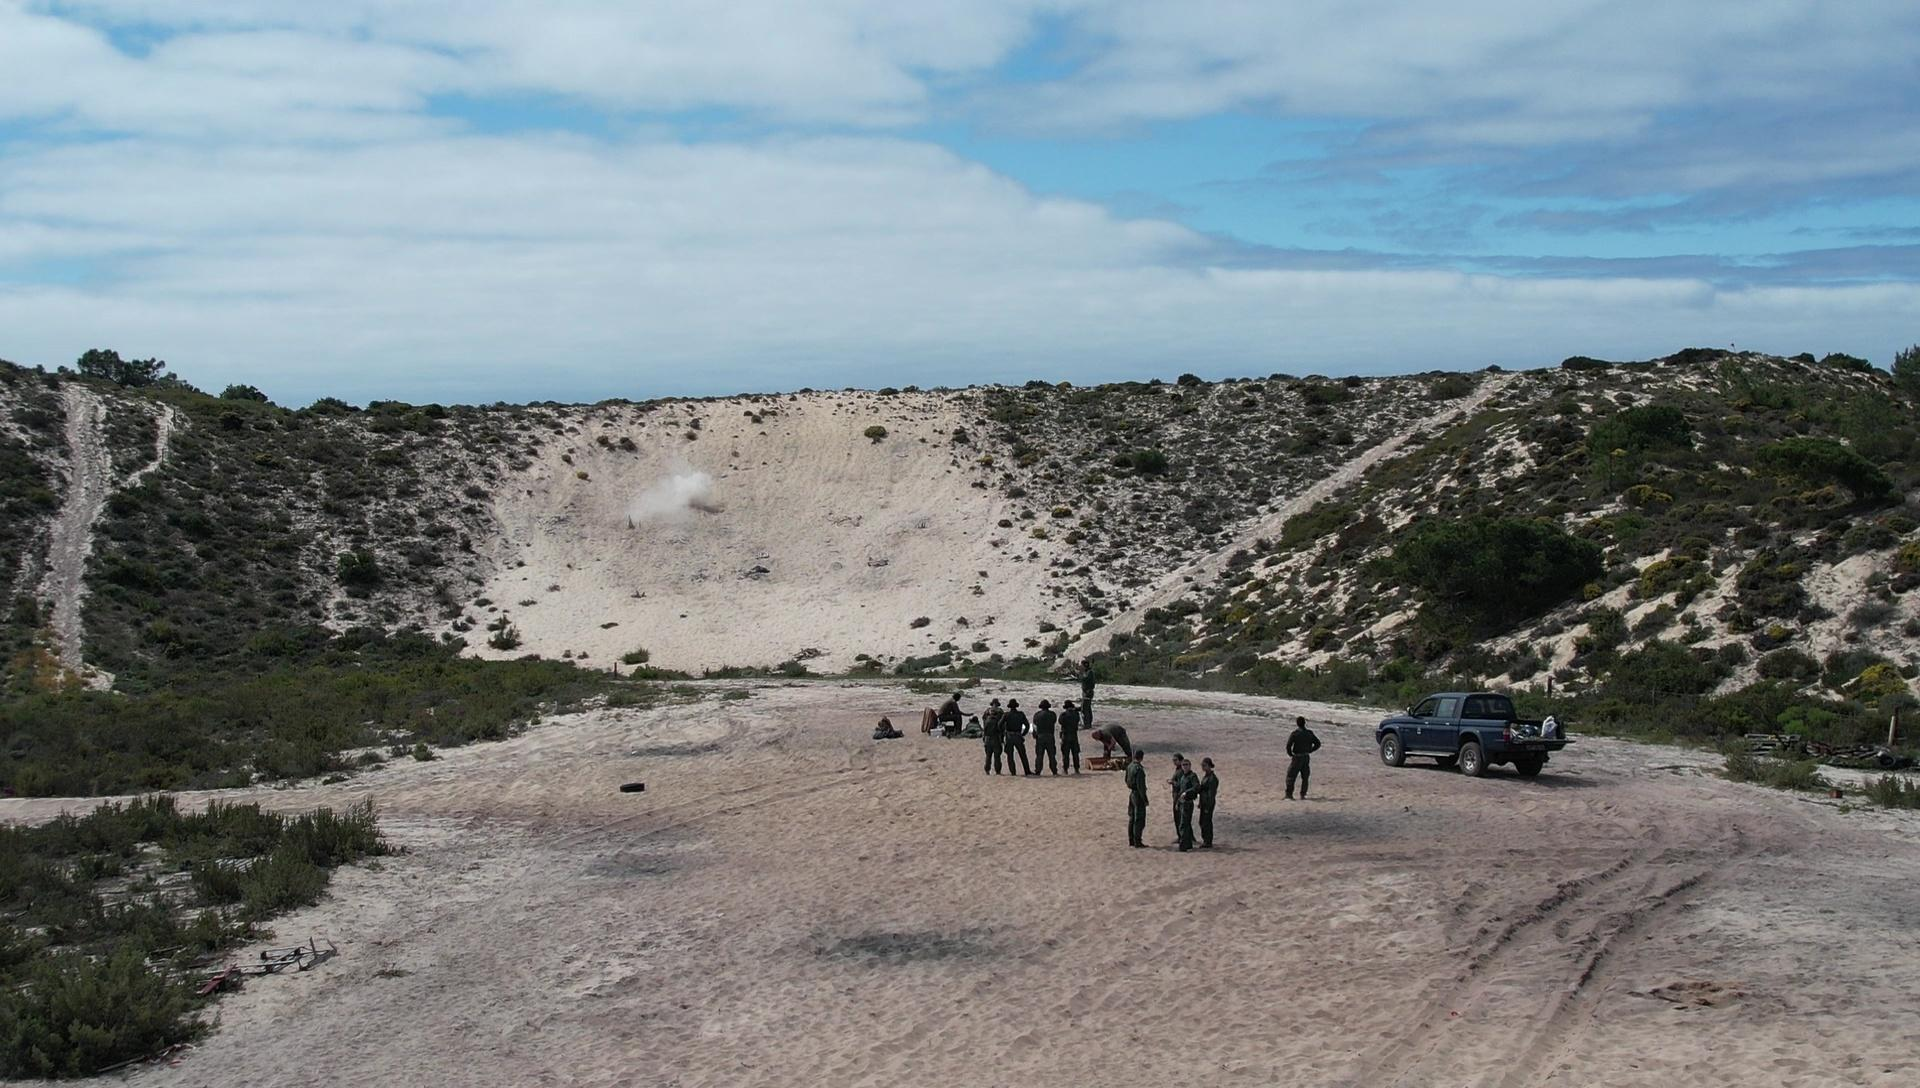Soldier: (1276, 710, 1331, 806), (1122, 741, 1155, 864), (1030, 688, 1065, 786), (1170, 752, 1201, 857), (1195, 754, 1222, 859), (1000, 694, 1031, 785), (1075, 649, 1109, 729), (1058, 688, 1087, 775), (927, 682, 967, 745), (982, 698, 1011, 778)
